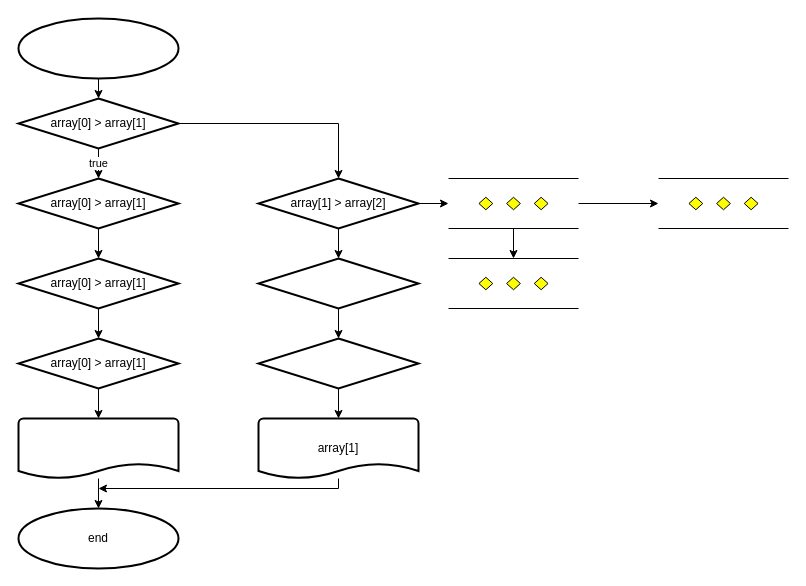
This 806x586 diagram has some shape labels left out. The shapes that lost their labels are listed below. From the top down, each one's centre as x and y in pixels, then its label:
the point at 98,48: start
the point at 338,283: array[1] > array[3]
the point at 338,363: array[1] > array[4]
the point at 98,448: array[0]
